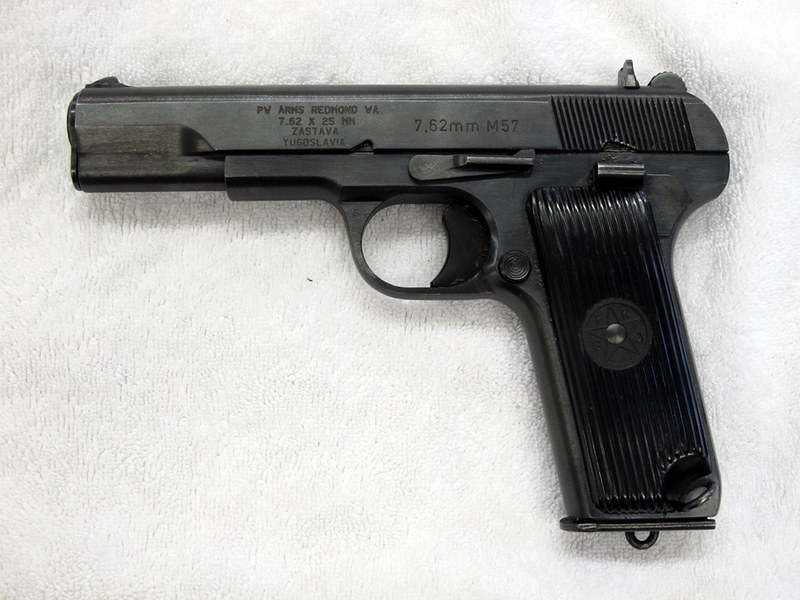gun: (51, 53, 742, 553)
